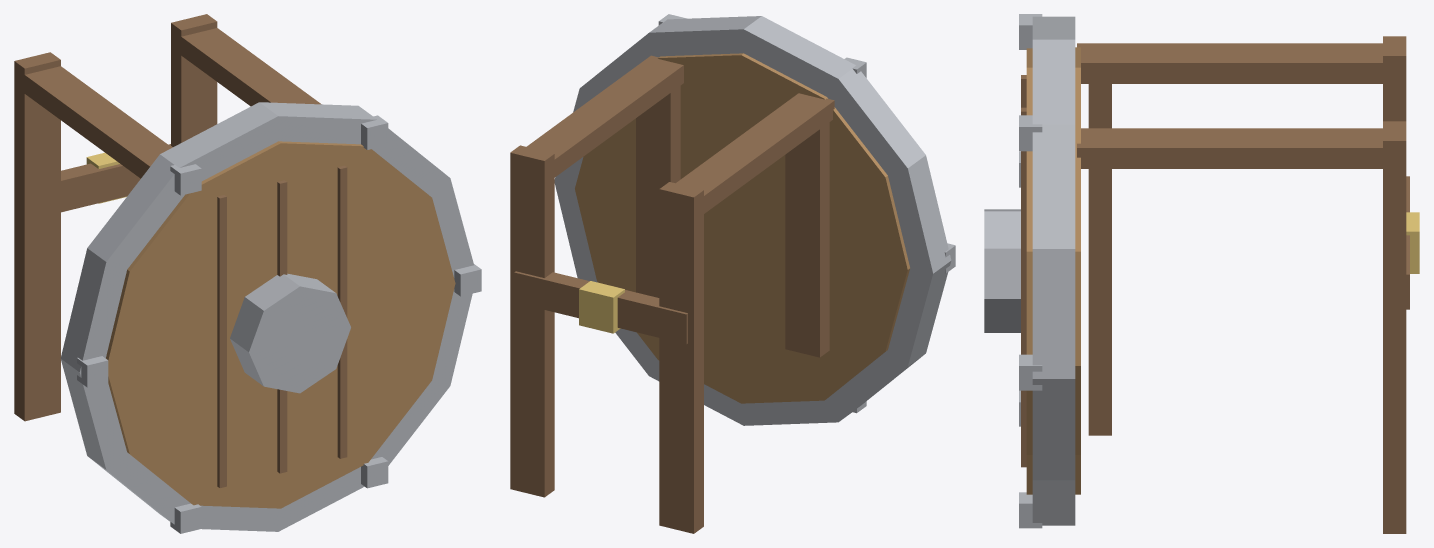
File: escudo_redondo_costas.glb
3 views of the same model, side by side, from view 1: azimuth 30°, elevation 25°; view 2: azimuth 150°, elevation 25°; view 3: azimuth 270°, elevation 25° (orthographic). The views are drawn at different scales.
Visible parts, largest first — view 1: escudo_redondo_costas; view 2: escudo_redondo_costas; view 3: escudo_redondo_costas.
Boxes of the visible parts, x1,y1,x2,y2 form: escudo_redondo_costas: [14, 14, 481, 533]; escudo_redondo_costas: [510, 14, 955, 533]; escudo_redondo_costas: [984, 14, 1419, 533].
Size of the model in its own units: 0.66 by 0.66 by 0.5625.
